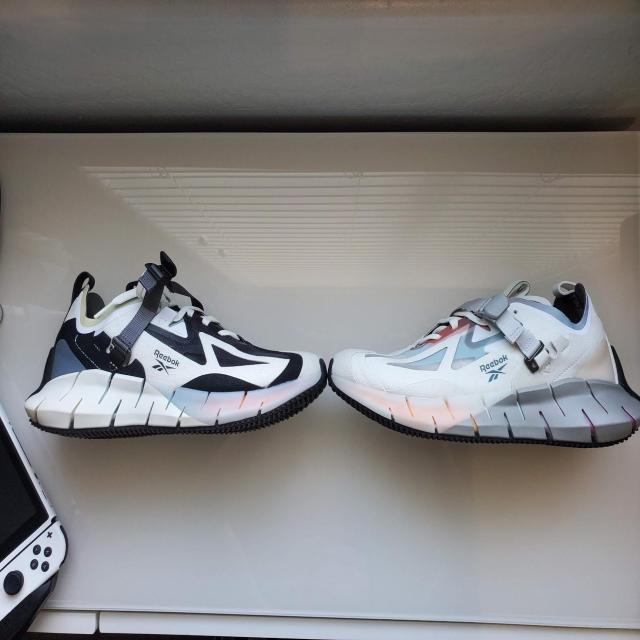shoes: (21, 238, 334, 462), (330, 252, 640, 464)
